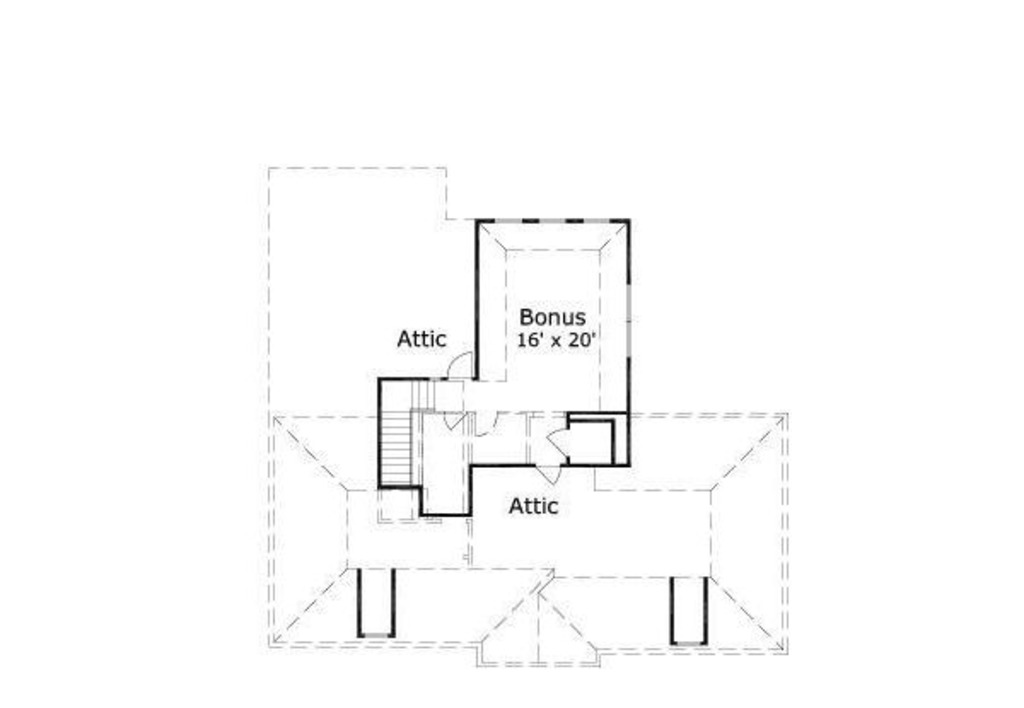door: (539, 426, 574, 460), (471, 408, 505, 441), (444, 350, 474, 383), (529, 458, 560, 487), (440, 408, 467, 438)
stairs: (378, 365, 430, 485)
window: (580, 215, 614, 225), (540, 215, 570, 226), (626, 279, 630, 356), (498, 213, 518, 225), (680, 636, 702, 646), (370, 629, 388, 636)
